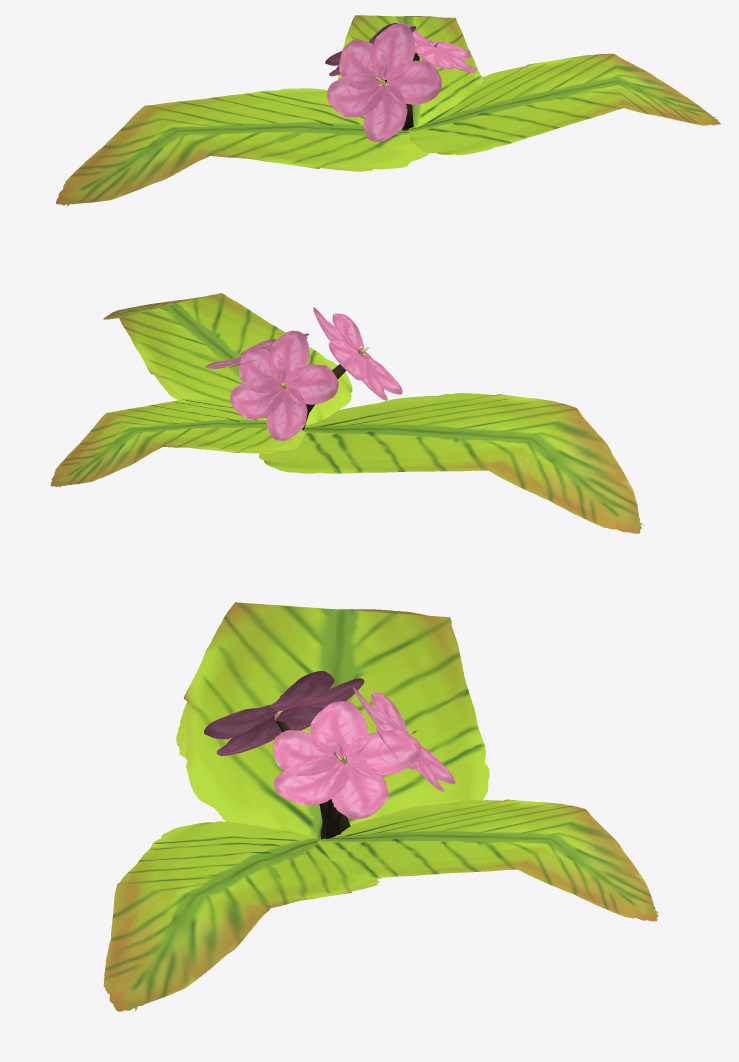
The model's file is CherryFern.fbx.
3 views of the same model, one above another, from view 1: azimuth 30°, elevation 25°; view 2: azimuth 150°, elevation 25°; view 3: azimuth 270°, elevation 25° (orthographic). The views are drawn at different scales.
Visible parts, largest first — view 1: CherryFern.001, CherryFern.003, CherryFern, CherryFern.002; view 2: CherryFern.001, CherryFern.003, CherryFern, CherryFern.002; view 3: CherryFern.001, CherryFern.003, CherryFern.002, CherryFern, CherryFern.004.
Part boxes in pixels (left/top/right/bottom): CherryFern.001: left=56, top=88, right=428, bottom=206; CherryFern.003: left=409, top=53, right=720, bottom=154; CherryFern: left=325, top=22, right=475, bottom=141; CherryFern.002: left=338, top=15, right=482, bottom=127; CherryFern.001: left=259, top=393, right=644, bottom=533; CherryFern.003: left=103, top=293, right=352, bottom=425; CherryFern: left=205, top=307, right=402, bottom=440; CherryFern.002: left=50, top=398, right=305, bottom=487; CherryFern.001: left=176, top=602, right=489, bottom=838; CherryFern.003: left=103, top=821, right=380, bottom=1011; CherryFern.002: left=318, top=799, right=660, bottom=921; CherryFern: left=204, top=671, right=455, bottom=818; CherryFern.004: left=276, top=721, right=350, bottom=839.
Bounding box in the file's own units: 247 × 46.57 × 165.
